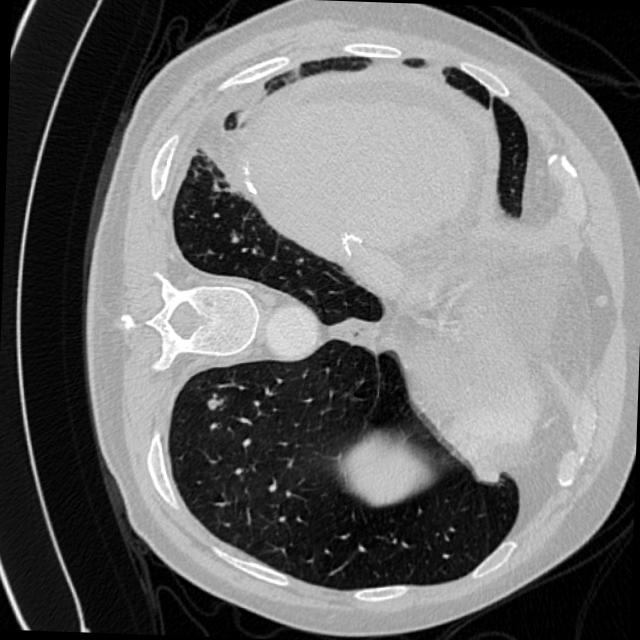nodule: (202, 391, 224, 414)
